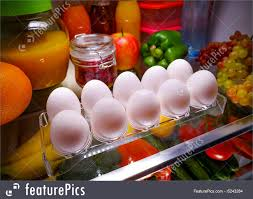eggs: (164, 48, 234, 108), (39, 81, 83, 150), (78, 67, 116, 142), (110, 71, 162, 123), (146, 67, 190, 121)
